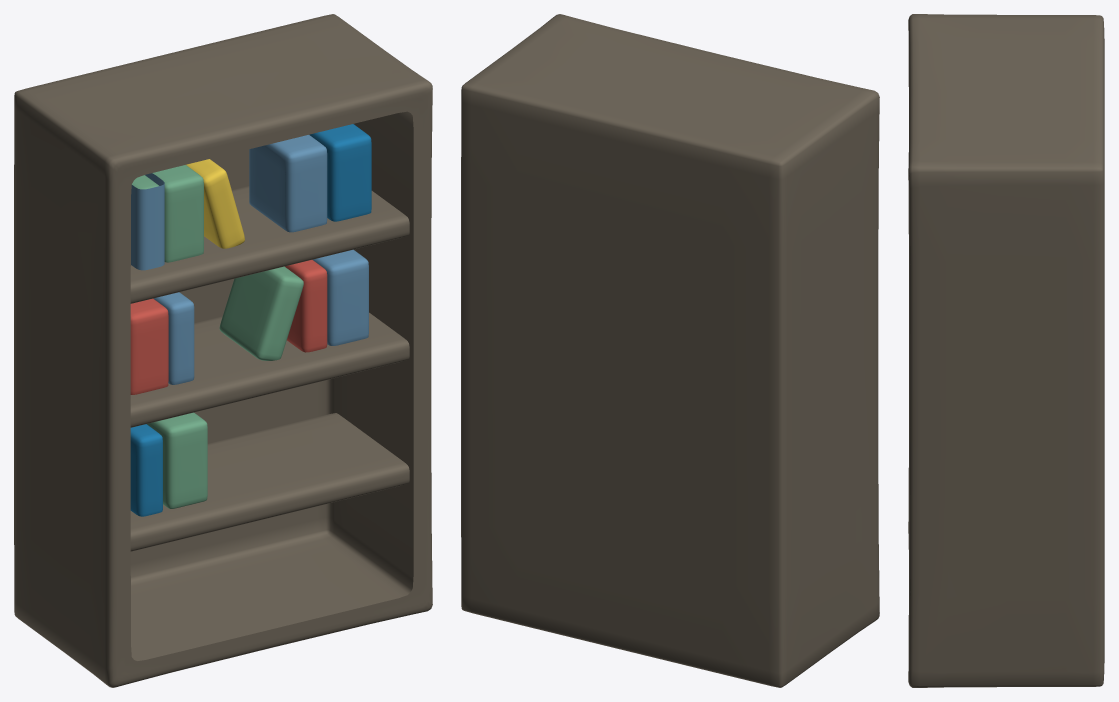
Rendered from book-shelf.fbx.
3 views of the same model, side by side, from view 1: azimuth 30°, elevation 25°; view 2: azimuth 150°, elevation 25°; view 3: azimuth 270°, elevation 25° (orthographic).
Parts seen in each view (by area): view 1: book-shelf; view 2: book-shelf; view 3: book-shelf.
Boxes of the visible parts, x1=… form: book-shelf: x1=14, y1=14, x2=432, y2=687; book-shelf: x1=461, y1=14, x2=879, y2=687; book-shelf: x1=908, y1=14, x2=1104, y2=687.
Bounding box in the file's own units: 479 × 747 × 254.
